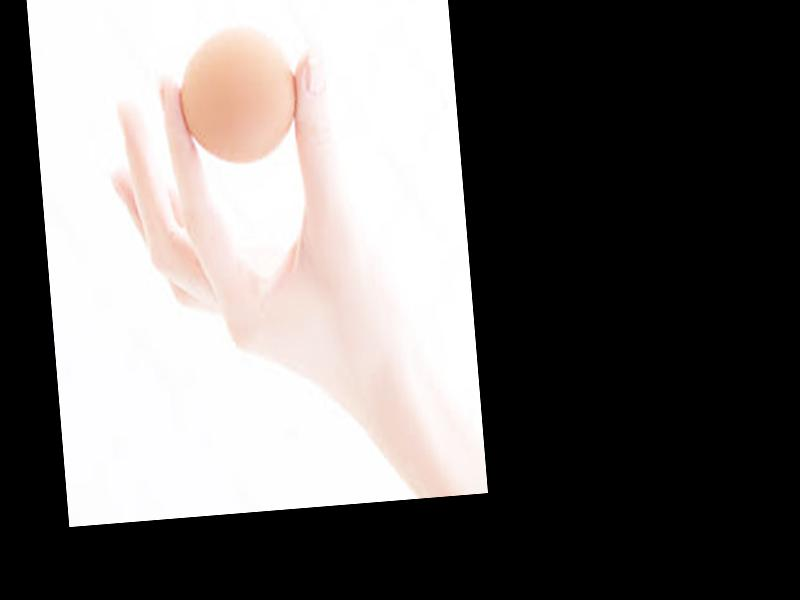Eggs: (174, 24, 302, 165)
